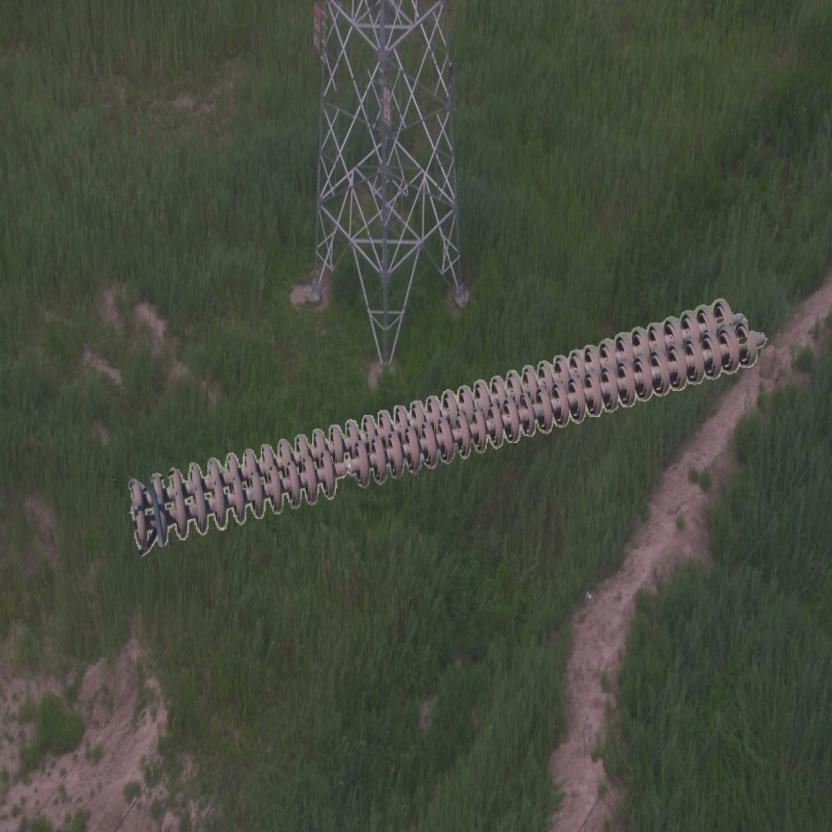defect: (314, 434, 375, 496)
